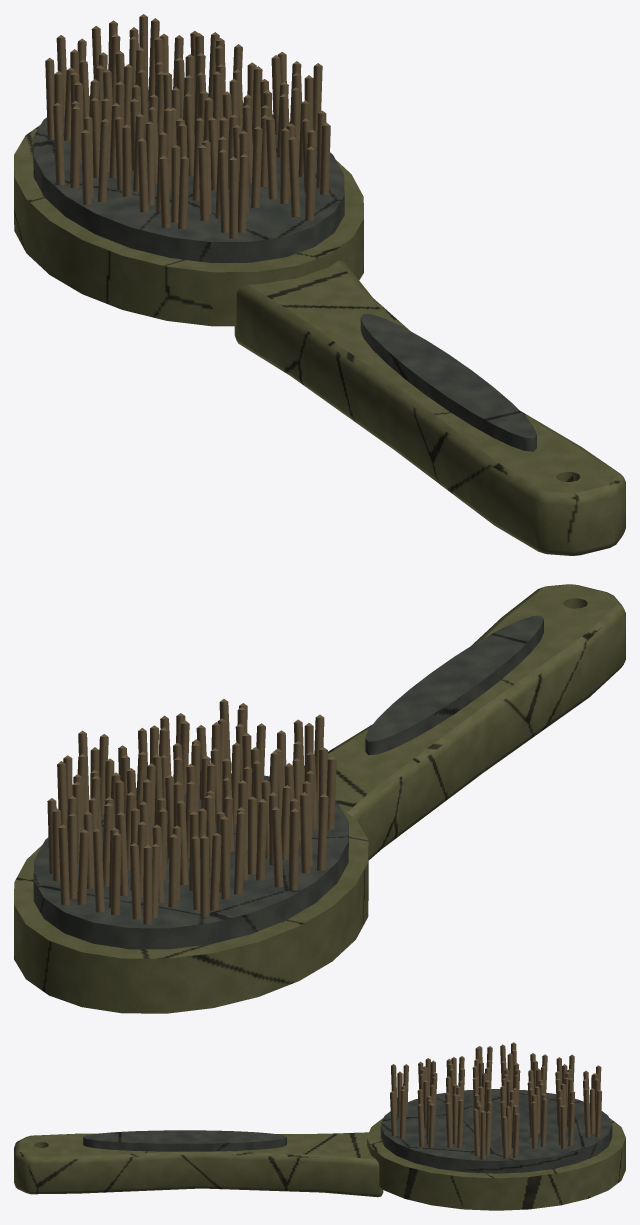
The model's file is hairbrush_aged.glb.
3 renders of one model, top to bottom at view 1: azimuth 30°, elevation 25°; view 2: azimuth 150°, elevation 25°; view 3: azimuth 270°, elevation 25°, orthographic. The views are drawn at different scales.
Visible parts, largest first — view 1: Handle, Head, BristlePad, GripInsert, BristleTuft_00_1, BristleTuft_05_0, BristleTuft_12_0, BristleTuft_19_1, BristleTuft_19_0, BristleTuft_04_2, BristleTuft_01_1, BristleTuft_00_2; view 2: Handle, Head, BristlePad, GripInsert, BristleTuft_38_0, BristleTuft_37_1, BristleTuft_26_2, BristleTuft_19_0, BristleTuft_37_2, BristleTuft_36_2, BristleTuft_26_1, BristleTuft_12_1 (+17 smaller); view 3: Handle, Head, BristlePad, GripInsert, BristleTuft_38_0, BristleTuft_18_2, BristleTuft_01_0, BristleTuft_11_1, BristleTuft_30_0, BristleTuft_38_1, BristleTuft_18_1, BristleTuft_30_2 (+7 smaller).
Part boxes in pixels (x1,y1,x2,y2): Handle: (234, 260, 625, 555); Head: (14, 125, 363, 326); BristlePad: (33, 90, 344, 262); GripInsert: (360, 314, 536, 451); BristleTuft_00_1: (218, 149, 229, 232); BristleTuft_05_0: (266, 116, 277, 199); BristleTuft_12_0: (98, 118, 109, 201); BristleTuft_19_1: (70, 106, 80, 187); BristleTuft_19_0: (53, 102, 64, 184); BristleTuft_04_2: (251, 126, 262, 207); BristleTuft_01_1: (288, 136, 300, 216); BristleTuft_00_2: (229, 156, 237, 238); Handle: (304, 584, 625, 860); Head: (14, 809, 368, 1013); BristlePad: (33, 774, 348, 949); GripInsert: (365, 615, 543, 755); BristleTuft_38_0: (68, 813, 77, 898); BristleTuft_37_1: (93, 828, 104, 912); BristleTuft_26_2: (234, 811, 245, 894); BristleTuft_19_0: (289, 808, 299, 890); BristleTuft_37_2: (111, 832, 121, 914); BristleTuft_36_2: (143, 844, 152, 924); BristleTuft_26_1: (220, 816, 230, 899); BristleTuft_12_1: (300, 792, 310, 873); Handle: (14, 1132, 383, 1197); Head: (367, 1117, 625, 1210); BristlePad: (380, 1089, 612, 1173); GripInsert: (83, 1130, 286, 1151); BristleTuft_38_0: (584, 1088, 590, 1137); BristleTuft_18_2: (480, 1110, 485, 1159); BristleTuft_01_0: (400, 1089, 405, 1138); BristleTuft_11_1: (457, 1099, 463, 1147); BristleTuft_30_0: (540, 1098, 547, 1146); BristleTuft_38_1: (595, 1089, 601, 1137); BristleTuft_18_1: (473, 1108, 480, 1155); BristleTuft_30_2: (531, 1101, 537, 1148).
Size of the model in its own units: 0.07 by 0.0423 by 0.222.
Materials: 3 (3 with a texture image).
